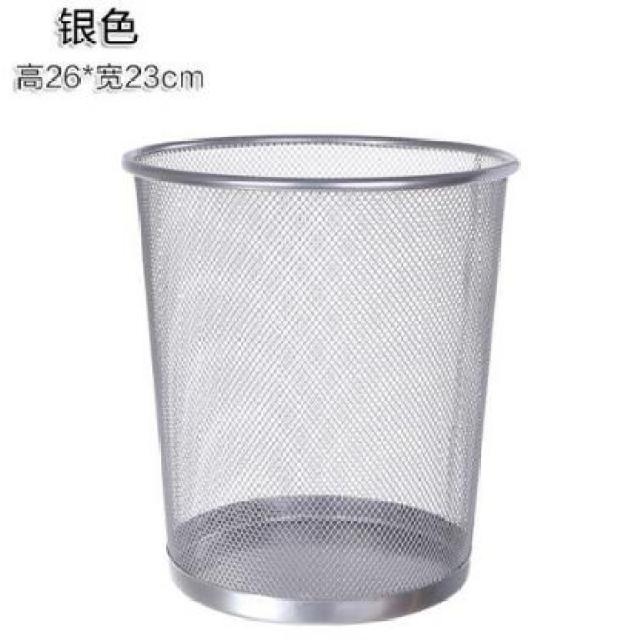dustbin: (115, 124, 528, 634)
